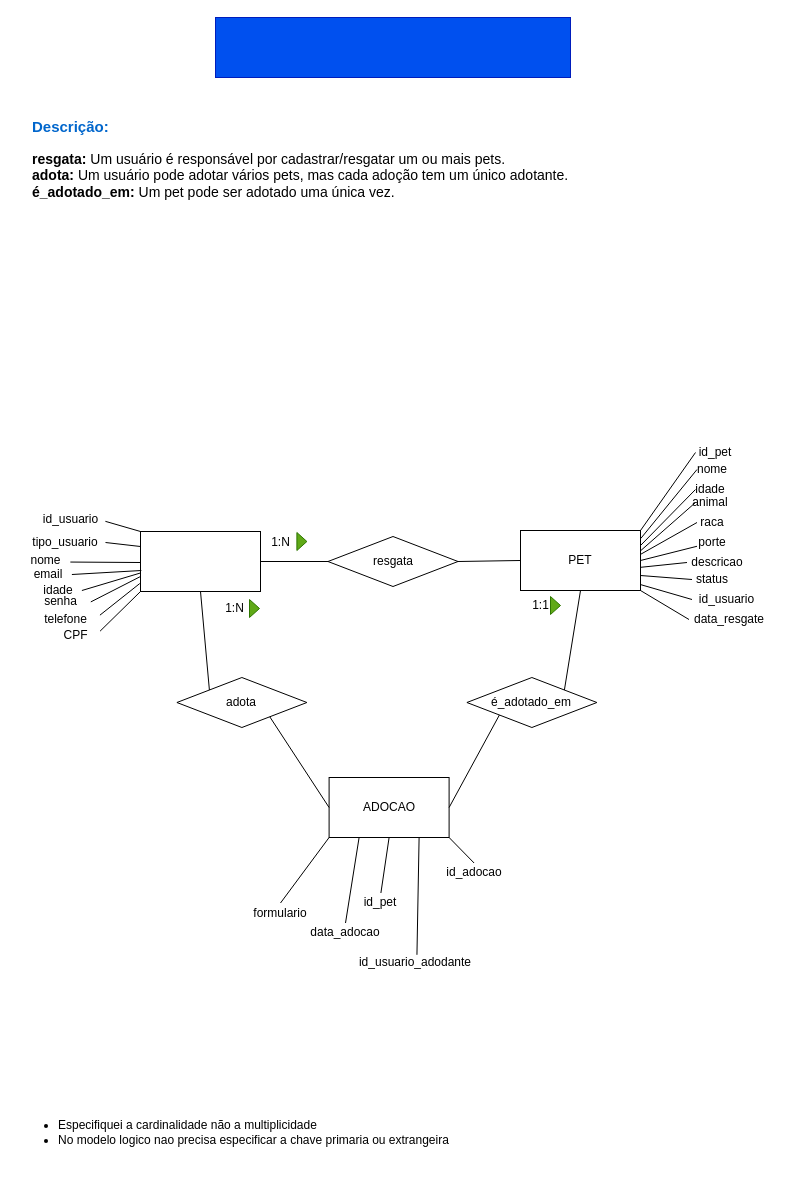
Image size: 787x1185. Some labels were removed from this diagram. The shapes that lost their labels are listed below. From the top down, each one's centre as x and y in pixels, then its label:
the point at 392,47: MODELO CONCEITUAL Modelo de Entidade e Relacionamento (MER) (ou DER conceitual)
the point at 200,561: USUARIO
